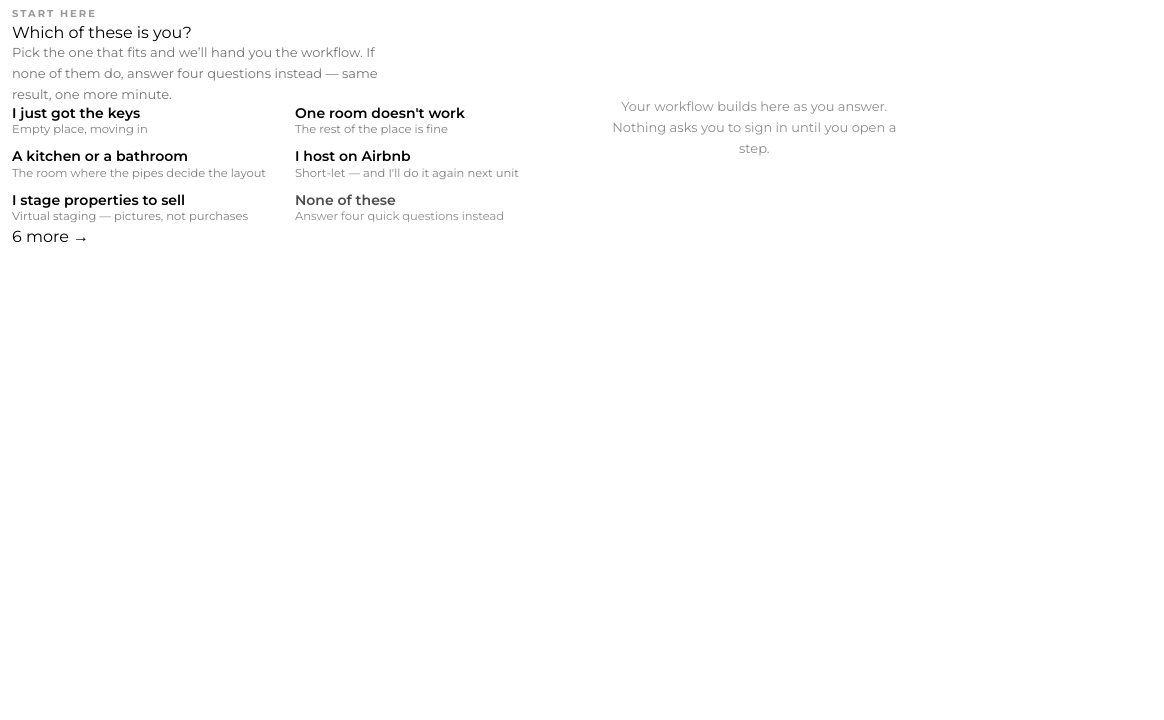
Scenario: picking an identity › only asks what is left after an identity is picked
Click the button "I host on Airbnb Short-let — and I'll do it again next unit" at (432, 165), box [295,148,568,182]
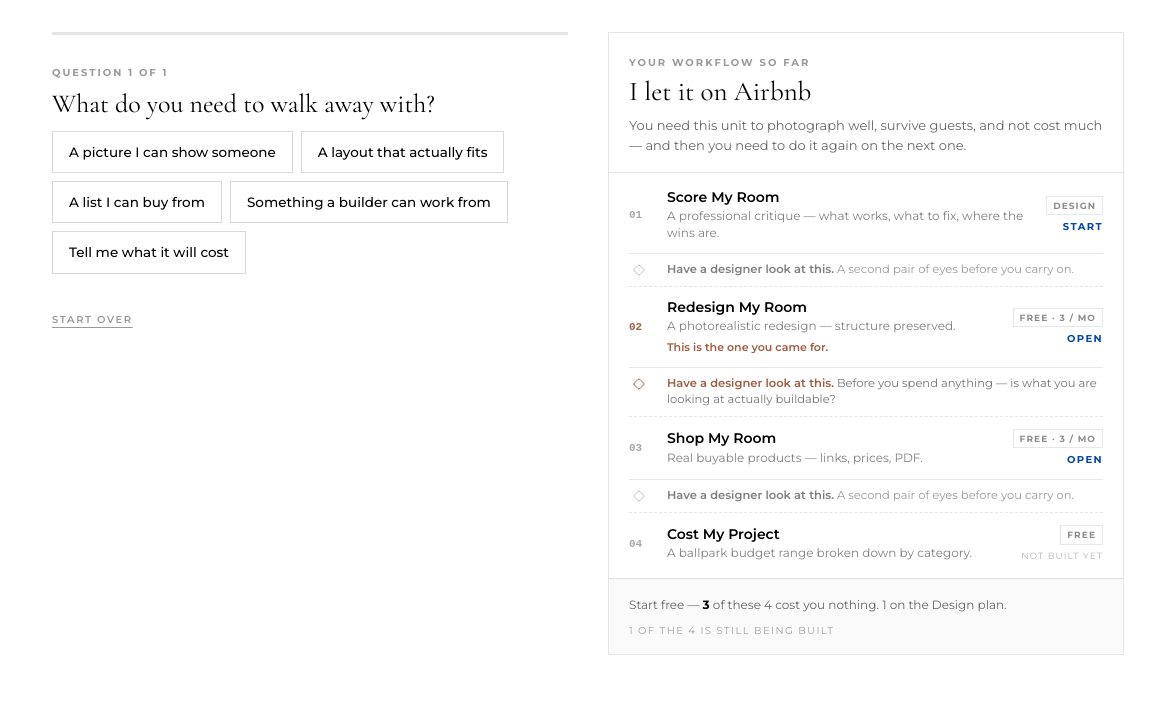
Result: the text "Question 1 of 1" is shown at [52,66,168,79]
Result: the text "What do you need to walk away with?" is shown at [52,89,435,119]
